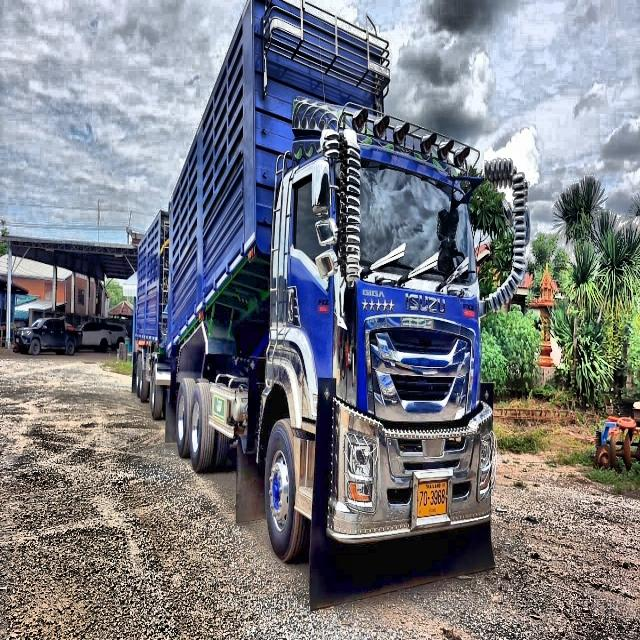trailer: (132, 0, 496, 560)
